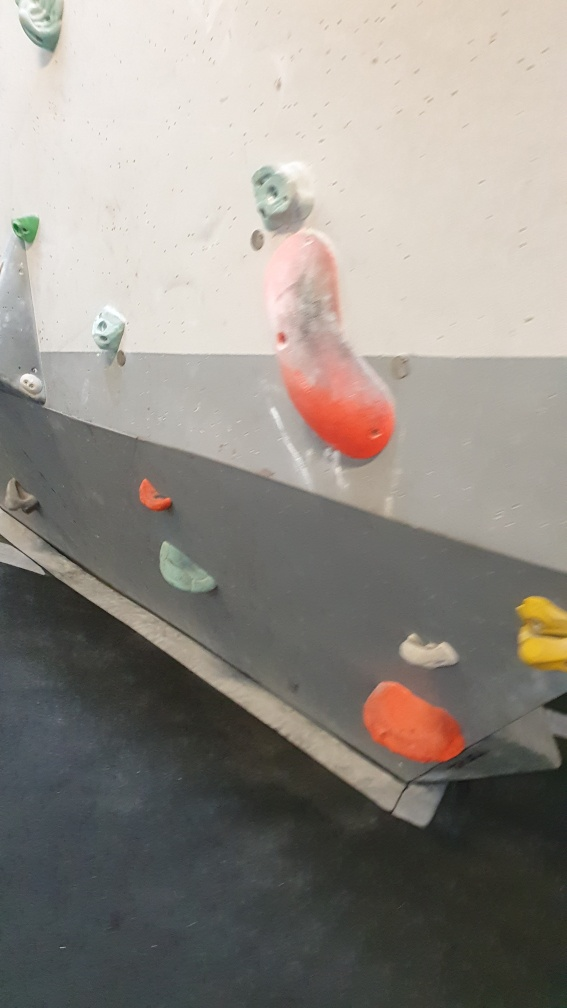Pinch: (257, 223, 397, 465)
